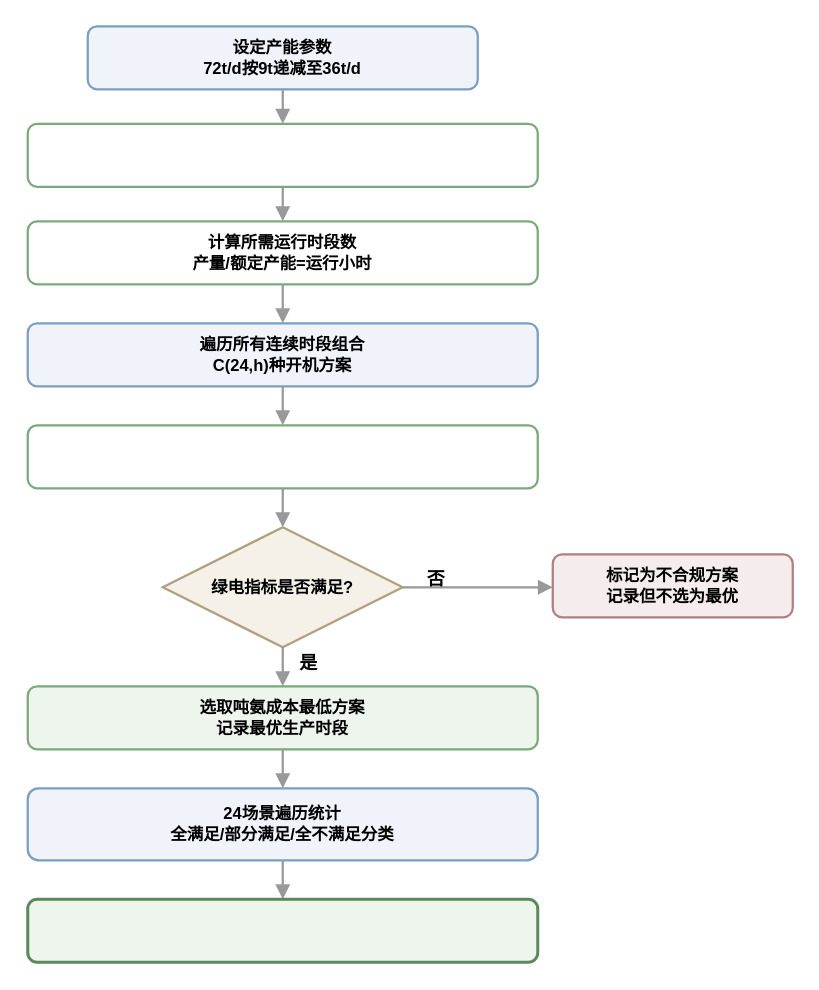
Some shapes in this 819 by 990 pixel diagram are drawn without their labels. Here are the shapes that lost their labels. From the top down, the box of each, then its label:
(26, 122, 538, 187): 枚举日产量水平 72/63/54/45/36 吨/日
(26, 423, 538, 489): 计算各方案购售电成本 分时电价加权计算
(26, 897, 538, 963): 输出全年吨氨成本分布 最优产量/调度方案/利用率
